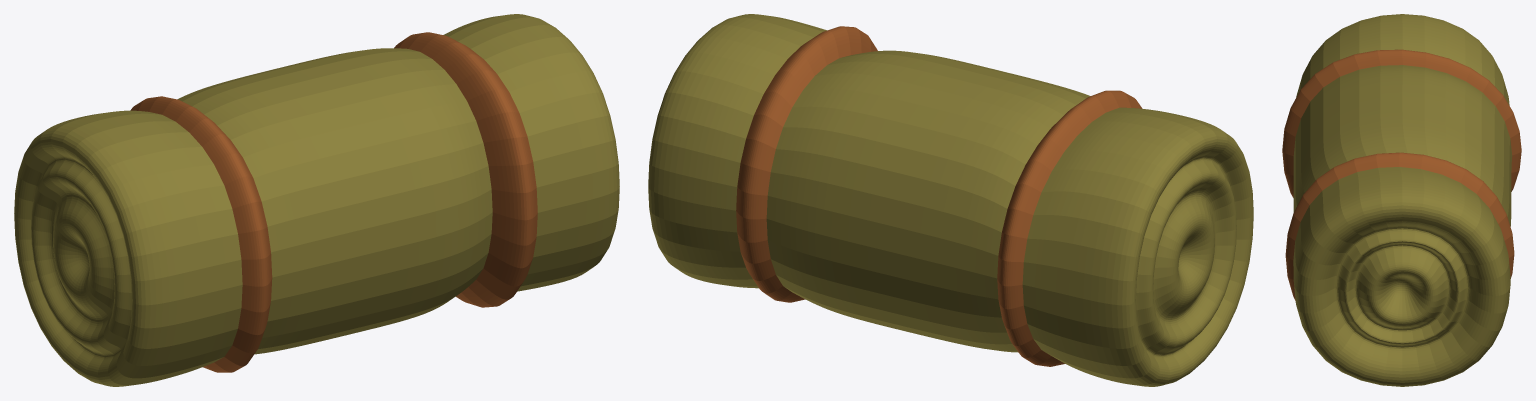
Rendered from SleepingBagModel.fbx.
The picture shows the model from 3 angles, left to right: view 1: azimuth 30°, elevation 25°; view 2: azimuth 150°, elevation 25°; view 3: azimuth 270°, elevation 25°; orthographic projection. The views are drawn at different scales.
Visible parts, largest first — view 1: Cube; view 2: Cube; view 3: Cube.
Boxes of the visible parts, bbox=[...] form: Cube: bbox=[14, 14, 619, 386]; Cube: bbox=[648, 14, 1253, 386]; Cube: bbox=[1282, 14, 1521, 386].
Bounding box in the file's own units: 190 × 93.84 × 101.
